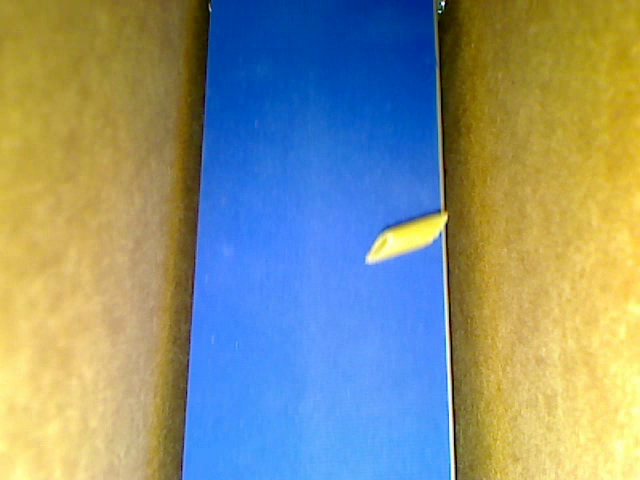penne: (364, 212, 448, 263)
